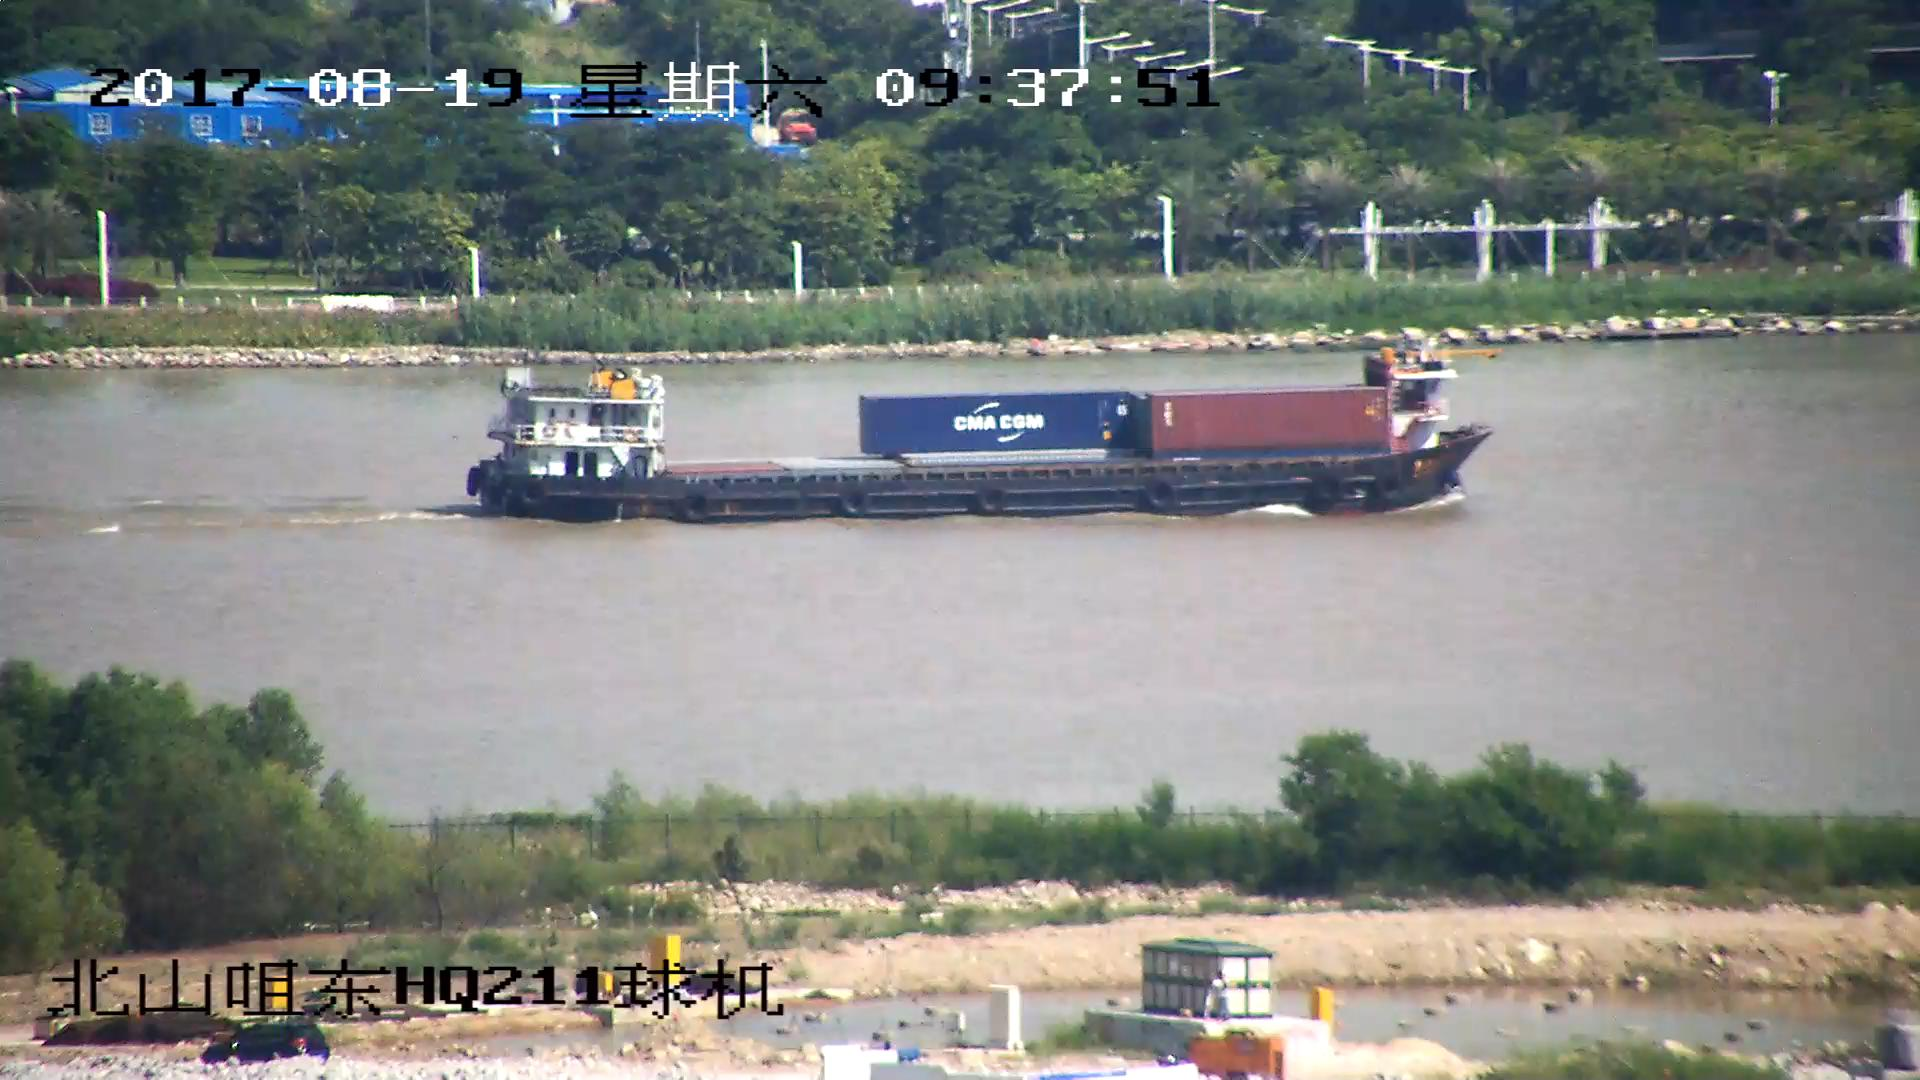container ship: (465, 348, 1499, 520)
